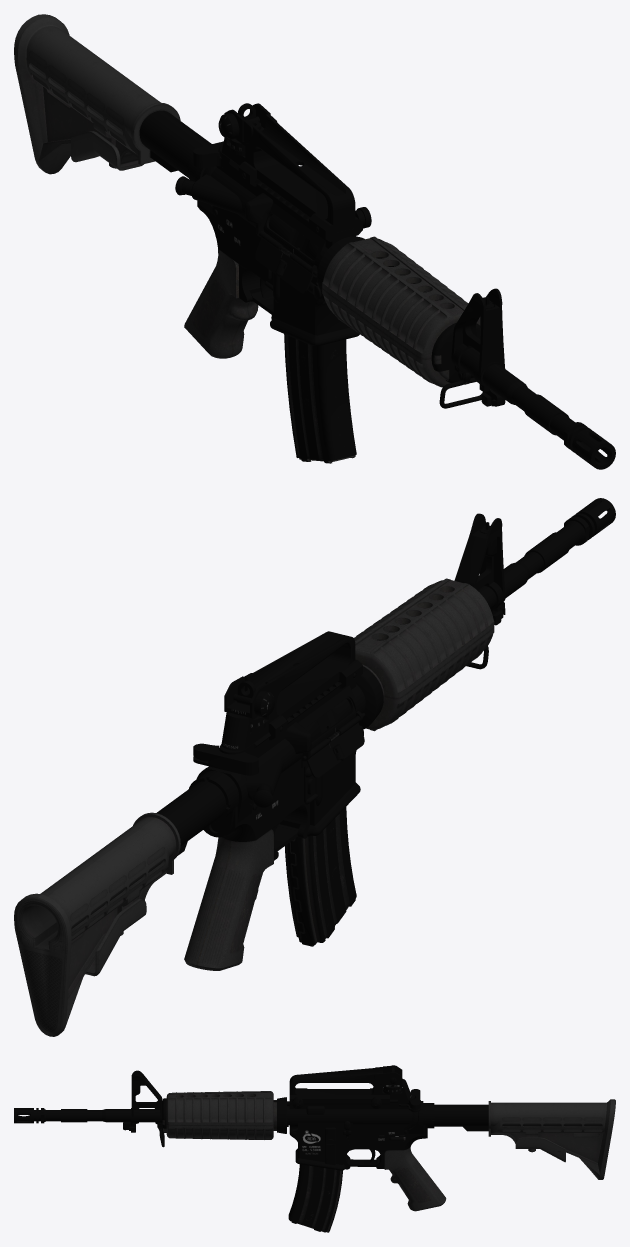
The model's file is m4a1_rifle.glb.
3 views of the same model, one above another, from view 1: azimuth 30°, elevation 25°; view 2: azimuth 150°, elevation 25°; view 3: azimuth 270°, elevation 25° (orthographic). The views are drawn at different scales.
Visible parts, largest first — view 1: mesh0_M4_0 (×5), mesh0_Stock_0 (×2), mesh0_MAG_0; view 2: mesh0_M4_0 (×5), mesh0_Stock_0 (×2), mesh0_MAG_0; view 3: mesh0_M4_0 (×3), mesh0_Stock_0 (×2), mesh0_MAG_0.
Boxes of the visible parts, left/top/right/bottom form: mesh0_M4_0 (×5): left=175, top=103, right=615, bottom=469; mesh0_Stock_0 (×2): left=14, top=14, right=211, bottom=181; mesh0_MAG_0: left=284, top=334, right=356, bottom=463; mesh0_M4_0 (×5): left=184, top=498, right=615, bottom=970; mesh0_Stock_0 (×2): left=14, top=772, right=236, bottom=1036; mesh0_MAG_0: left=285, top=807, right=356, bottom=946; mesh0_M4_0 (×3): left=14, top=1065, right=446, bottom=1211; mesh0_Stock_0 (×2): left=425, top=1099, right=615, bottom=1179; mesh0_MAG_0: left=288, top=1164, right=342, bottom=1232.
Size of the model in its own units: 1.65 by 5.52 by 18.37.
10 materials, 10 textured.
